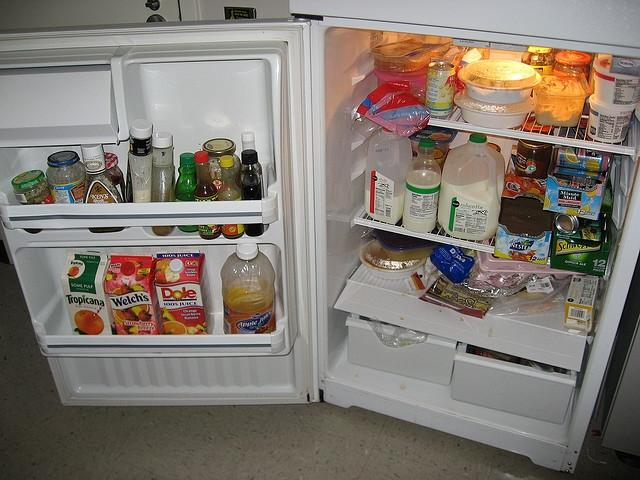strawberry: (106, 252, 166, 334), (154, 270, 167, 284), (135, 273, 149, 281), (162, 316, 171, 324), (110, 272, 118, 280), (194, 329, 203, 334)
